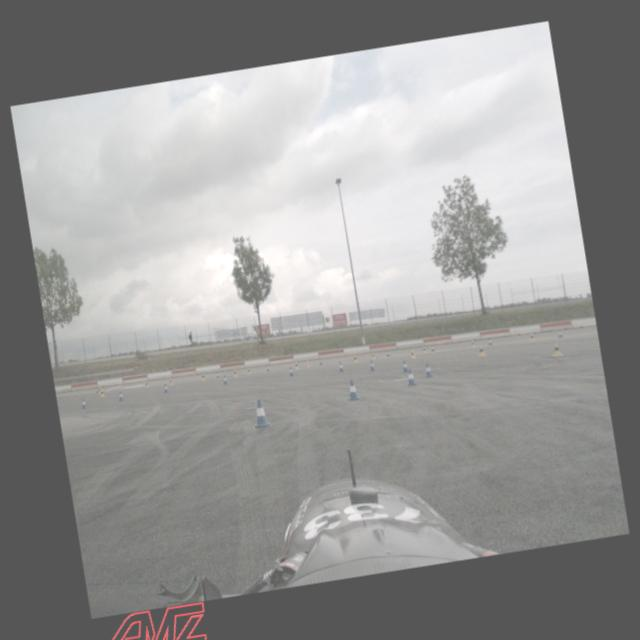blue_cone: (250, 398, 272, 430), (346, 378, 361, 401), (404, 368, 418, 386), (422, 362, 433, 378), (401, 360, 410, 372), (368, 359, 376, 372), (337, 362, 345, 374), (287, 366, 295, 377), (80, 398, 87, 410), (222, 374, 228, 386), (118, 391, 124, 402), (557, 329, 563, 338), (163, 383, 168, 393), (430, 344, 436, 352), (265, 364, 270, 372), (318, 358, 323, 366), (488, 337, 492, 345), (216, 371, 220, 378), (386, 350, 389, 358)
yellow_cone: (552, 342, 562, 358), (477, 346, 486, 356), (409, 349, 417, 360), (529, 332, 536, 342), (99, 388, 106, 398), (200, 373, 207, 382), (294, 360, 300, 370), (144, 380, 150, 390), (232, 369, 238, 378), (422, 346, 428, 355), (168, 378, 174, 387), (353, 354, 358, 364), (470, 340, 476, 348), (246, 367, 251, 376), (371, 352, 376, 360)
